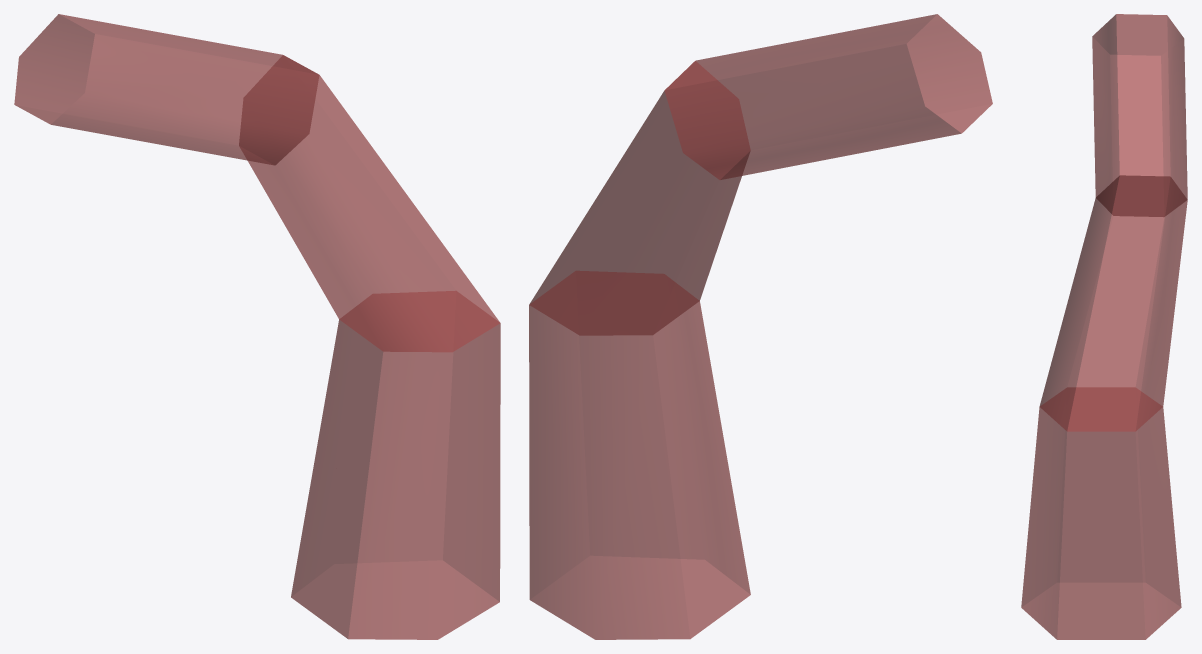
The model's file is SM_Env_Tree_Pine_01_Collision.fbx.
3 renders of one model, left to right at view 1: azimuth 30°, elevation 25°; view 2: azimuth 150°, elevation 25°; view 3: azimuth 270°, elevation 25°, orthographic. The views are drawn at different scales.
Visible parts, largest first — view 1: SM_Env_Tree_Pine_01_Collision; view 2: SM_Env_Tree_Pine_01_Collision; view 3: SM_Env_Tree_Pine_01_Collision.
Part boxes in pixels (bbox=[...]): SM_Env_Tree_Pine_01_Collision: bbox=[14, 14, 500, 639]; SM_Env_Tree_Pine_01_Collision: bbox=[529, 14, 992, 639]; SM_Env_Tree_Pine_01_Collision: bbox=[1021, 14, 1187, 639].
Size of the model in its own units: 222 by 314 by 97.2.
